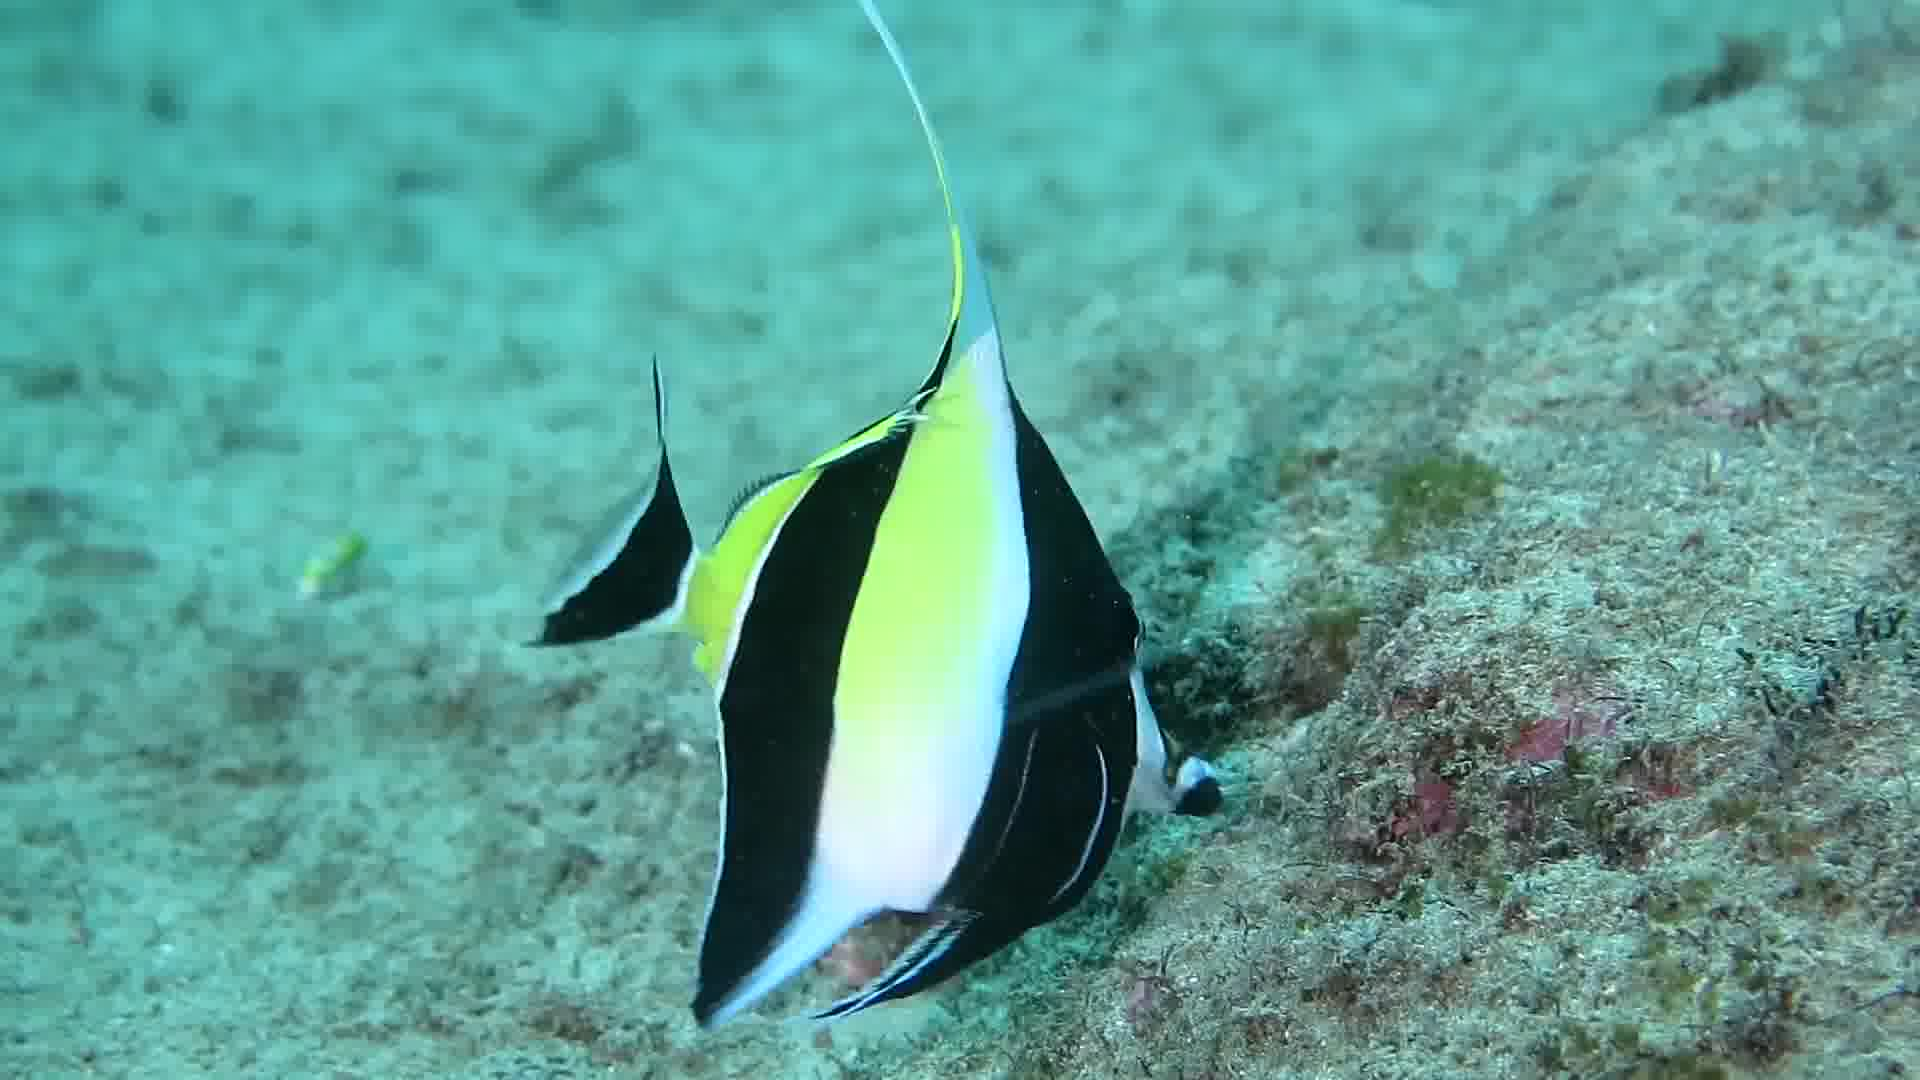Zanclus cornutus: (546, 256, 1240, 1018)
